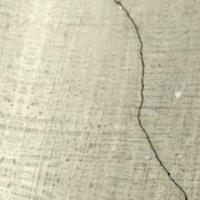crack: (114, 0, 199, 199)
